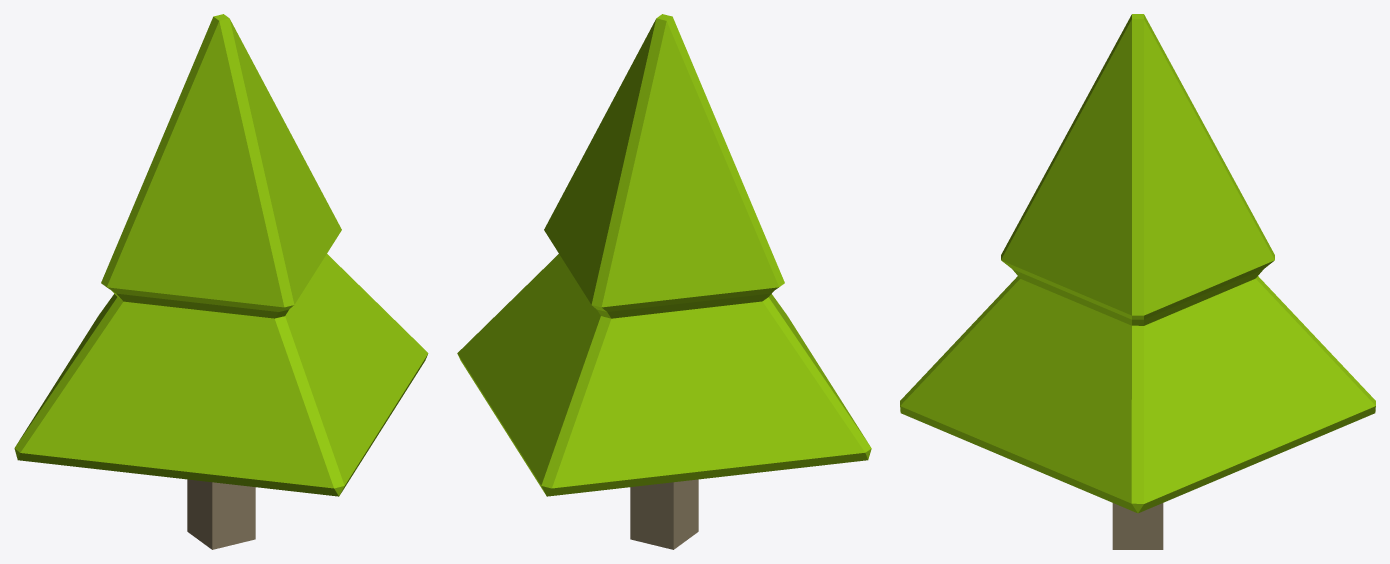
File: pine_13_bevel.fbx
3 renders of one model, left to right at view 1: azimuth 30°, elevation 25°; view 2: azimuth 150°, elevation 25°; view 3: azimuth 270°, elevation 25°, orthographic.
Parts seen in each view (by area): view 1: pine_13_bevel; view 2: pine_13_bevel; view 3: pine_13_bevel.
Boxes of the visible parts, x1,y1,x2,y2 form: pine_13_bevel: [14, 14, 428, 549]; pine_13_bevel: [457, 14, 871, 549]; pine_13_bevel: [900, 14, 1375, 549].
Bounding box in the file's own units: 114 × 138 × 114.
